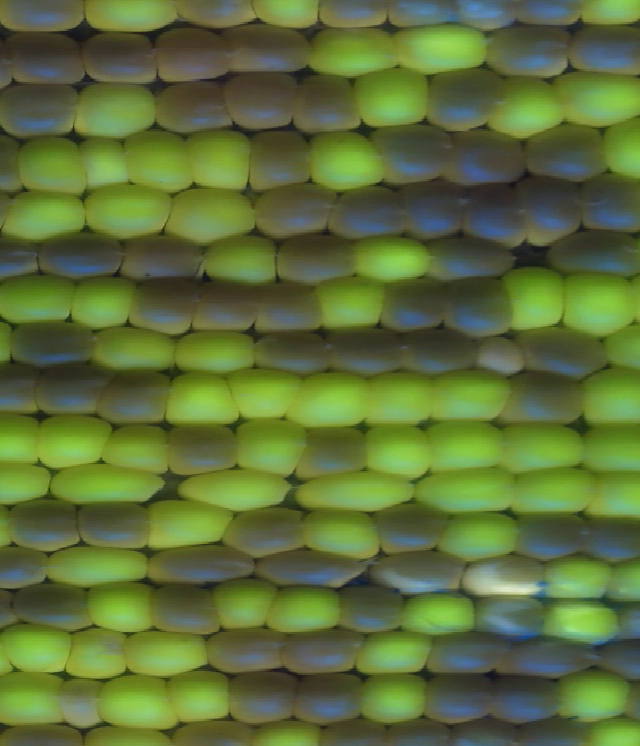fluorescent: (168, 186, 262, 242), (297, 472, 415, 515), (178, 467, 289, 512), (558, 67, 640, 127), (564, 272, 637, 337), (291, 370, 369, 429), (86, 191, 176, 242), (52, 464, 163, 505), (234, 420, 308, 481), (432, 367, 511, 424), (18, 137, 93, 197), (185, 128, 252, 195), (504, 266, 572, 332), (488, 77, 562, 137), (96, 677, 178, 731), (309, 127, 381, 188), (76, 82, 157, 136), (0, 270, 81, 324), (3, 192, 90, 242), (349, 72, 428, 127), (123, 130, 193, 192), (513, 466, 593, 520), (163, 372, 241, 427), (393, 25, 485, 71), (307, 27, 397, 74), (420, 470, 514, 515), (505, 420, 586, 472), (315, 276, 388, 332), (147, 501, 233, 548), (64, 626, 133, 684), (40, 415, 111, 471), (92, 326, 178, 372), (366, 370, 434, 428), (555, 669, 628, 723), (48, 547, 148, 586), (133, 632, 208, 684), (229, 367, 301, 421), (303, 505, 379, 556), (428, 419, 507, 468), (438, 515, 520, 562), (7, 622, 76, 676), (203, 234, 276, 285), (582, 364, 640, 427), (355, 629, 431, 677), (364, 422, 430, 477), (269, 584, 343, 632), (396, 592, 478, 635), (86, 582, 156, 632), (356, 236, 432, 282), (173, 332, 258, 373), (213, 574, 273, 632), (0, 676, 68, 727), (360, 672, 428, 723), (538, 602, 620, 644), (543, 554, 612, 603), (581, 420, 640, 477), (105, 425, 173, 472), (74, 275, 133, 329), (168, 672, 228, 722), (82, 1, 178, 30), (583, 473, 640, 521), (79, 138, 128, 190), (253, 1, 323, 32), (0, 413, 40, 466), (601, 121, 640, 172), (0, 461, 52, 499), (601, 324, 640, 372), (606, 557, 640, 607)
nonfluorescent: (513, 176, 586, 247), (500, 372, 589, 430), (525, 122, 613, 178), (371, 126, 457, 183), (545, 231, 640, 282), (444, 128, 526, 186), (7, 30, 88, 88), (519, 327, 608, 379), (7, 319, 97, 370), (428, 72, 504, 132), (276, 234, 362, 287), (485, 26, 574, 77), (457, 183, 527, 247), (258, 180, 335, 237), (258, 547, 373, 585), (225, 668, 299, 727), (122, 232, 206, 283), (13, 581, 94, 633), (0, 86, 80, 138), (156, 27, 230, 83), (500, 640, 598, 682), (293, 73, 359, 135), (153, 82, 234, 132), (80, 31, 156, 84), (324, 327, 406, 376), (148, 546, 256, 583), (371, 551, 466, 593), (508, 513, 591, 561), (225, 26, 311, 72), (226, 72, 295, 129), (447, 275, 513, 334), (297, 426, 370, 479), (378, 278, 448, 333), (226, 506, 306, 554), (373, 505, 448, 556), (331, 188, 407, 238), (40, 233, 122, 279), (568, 25, 640, 77), (430, 237, 518, 279), (189, 280, 260, 332), (151, 581, 222, 633), (424, 672, 493, 725), (425, 632, 508, 676), (36, 365, 109, 415), (11, 497, 80, 549), (130, 281, 194, 337), (405, 181, 463, 242), (251, 131, 314, 187), (403, 328, 478, 375), (79, 500, 154, 547), (256, 333, 328, 381), (166, 425, 241, 471), (99, 373, 169, 422), (297, 672, 364, 723), (254, 282, 322, 332), (488, 675, 560, 722), (339, 581, 405, 632), (207, 631, 287, 673), (581, 176, 640, 232), (476, 597, 546, 643), (283, 632, 359, 674), (585, 517, 640, 567), (0, 364, 43, 415), (593, 637, 640, 683), (478, 336, 525, 380), (0, 546, 49, 586), (0, 236, 38, 279)
